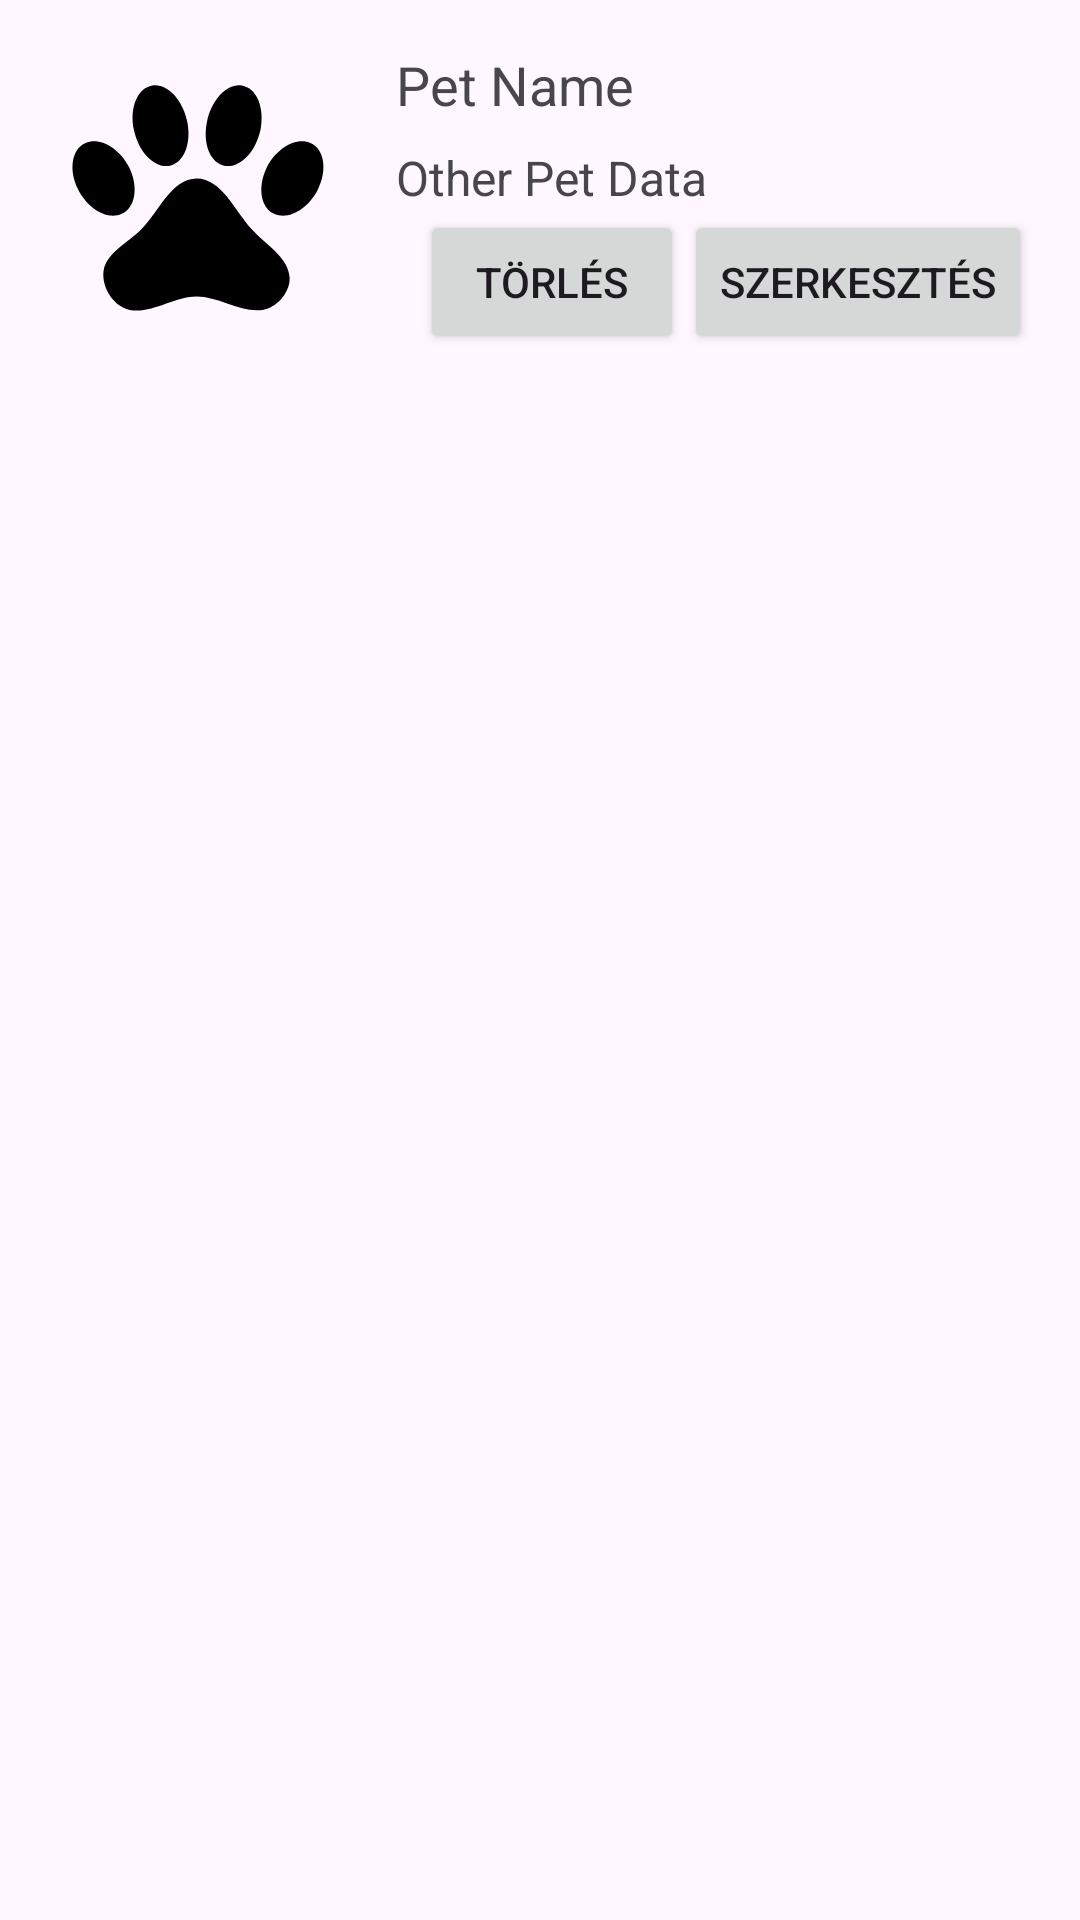

Where icons sit on this 1080*1920 app screen, as (x1, y1, x2, y2):
paw: (72, 85, 324, 311)
